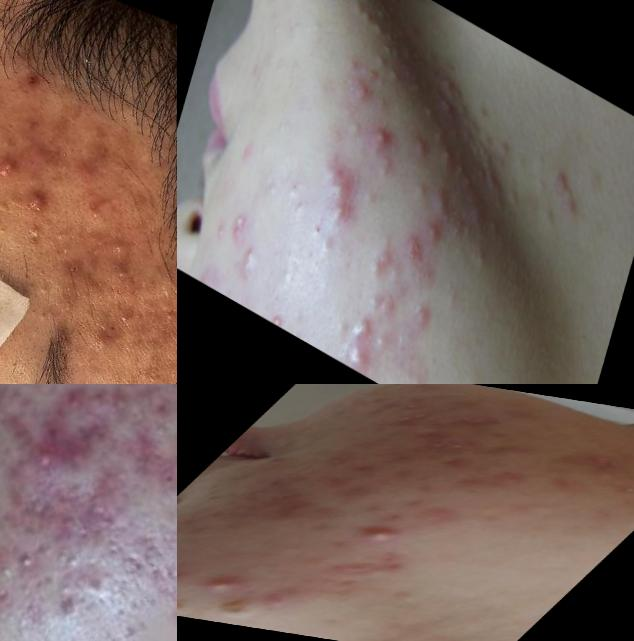acne_scars: (251, 496, 325, 523), (405, 500, 476, 526), (205, 593, 272, 617), (570, 450, 634, 473), (474, 467, 540, 489), (340, 461, 401, 482), (299, 473, 359, 494)
blackhead: (25, 298, 61, 331), (1, 213, 22, 253), (112, 260, 138, 285)
cystic: (319, 150, 363, 209), (427, 173, 463, 230)
papular: (6, 408, 105, 503), (114, 432, 178, 505), (318, 549, 418, 587), (51, 385, 120, 437), (136, 391, 178, 446), (1, 404, 23, 472), (65, 151, 102, 190), (157, 522, 178, 584), (402, 230, 430, 270), (106, 233, 136, 263)
purulent: (338, 517, 425, 550), (193, 569, 260, 597), (264, 296, 301, 334), (371, 237, 397, 286), (348, 307, 377, 350), (420, 221, 448, 263), (327, 200, 355, 238), (415, 298, 441, 338), (373, 122, 393, 152), (351, 346, 365, 370)
sebo-crystan-conglo: (17, 182, 62, 227), (81, 321, 125, 367), (380, 405, 446, 435), (417, 428, 490, 454), (443, 409, 518, 434), (342, 71, 376, 113), (229, 202, 254, 245), (400, 231, 426, 270), (1, 152, 22, 192)
whitehead: (347, 1, 403, 57), (51, 539, 103, 580), (40, 220, 86, 266), (6, 542, 50, 577), (381, 583, 438, 608), (382, 21, 413, 66), (371, 53, 405, 92), (504, 183, 532, 217), (1, 556, 26, 594), (463, 112, 490, 142), (472, 239, 496, 271), (419, 98, 439, 124), (461, 166, 478, 195), (441, 143, 459, 167), (325, 1, 342, 8)
